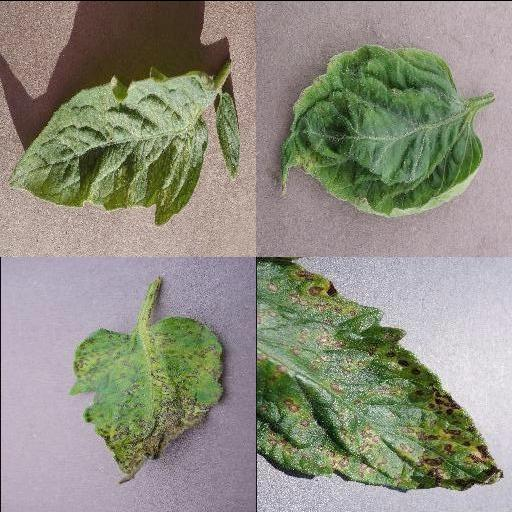Septoria: (256, 257, 502, 492), (67, 317, 223, 483)
Spider Mites: (8, 68, 214, 226)
Yellow Leaf Curl Virus: (274, 43, 484, 215)
